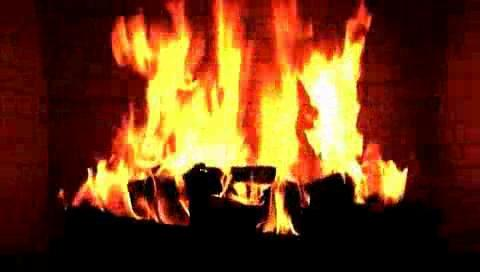fire: (107, 16, 372, 215)
